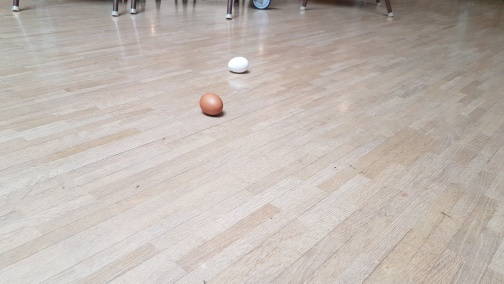egg: (198, 92, 224, 117), (227, 55, 251, 74)
